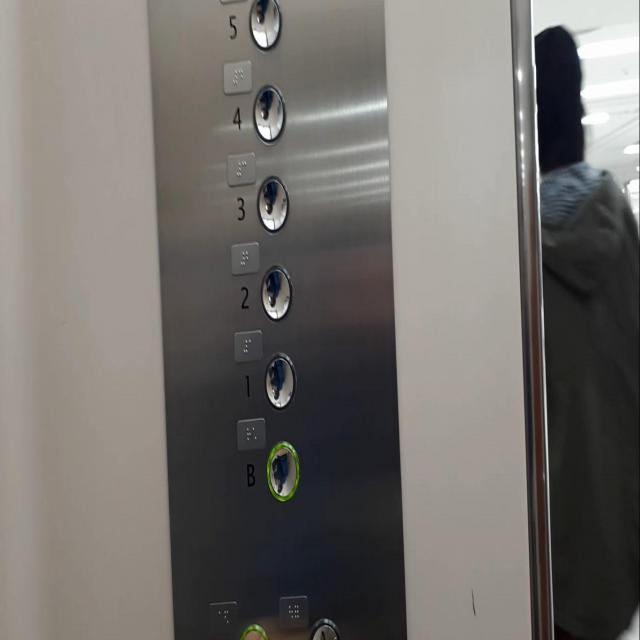1: (238, 344, 298, 421)
2: (236, 252, 294, 332)
3: (230, 163, 294, 241)
4: (222, 0, 285, 56)
5: (227, 73, 289, 151)
B: (240, 435, 302, 509)
